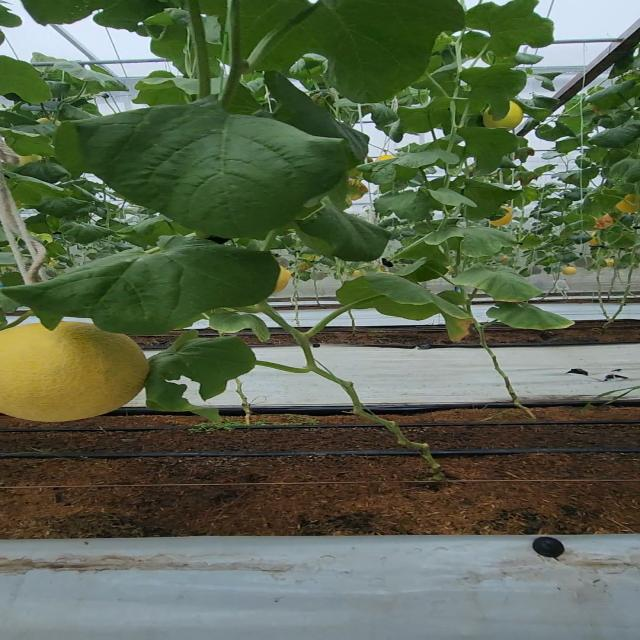Front-melon: (0, 325, 148, 423)
